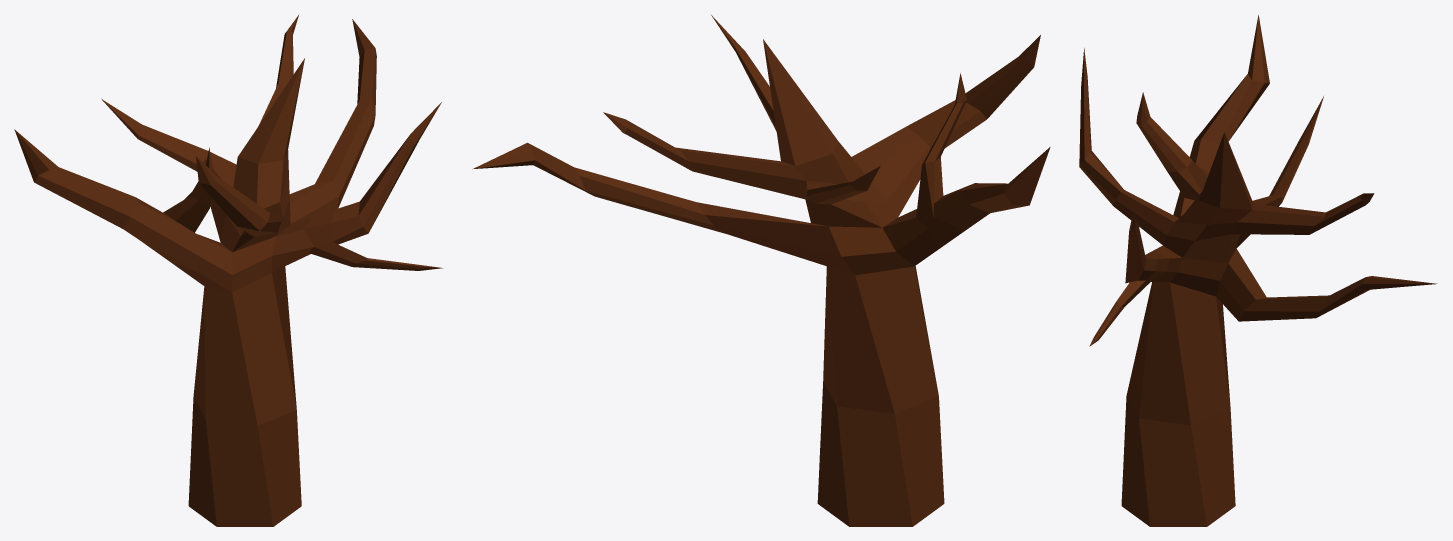
File: T_DeadTree1.fbx
3 renders of one model, left to right at view 1: azimuth 30°, elevation 25°; view 2: azimuth 150°, elevation 25°; view 3: azimuth 270°, elevation 25°, orthographic. The views are drawn at different scales.
Parts seen in each view (by area): view 1: Cylinder; view 2: Cylinder; view 3: Cylinder.
Part boxes in pixels (left/top/right/bottom): Cylinder: left=14, top=15, right=442, bottom=526; Cylinder: left=472, top=15, right=1050, bottom=526; Cylinder: left=1079, top=15, right=1437, bottom=526.
Bounding box in the file's own units: 6.1 × 5.62 × 4.41.
